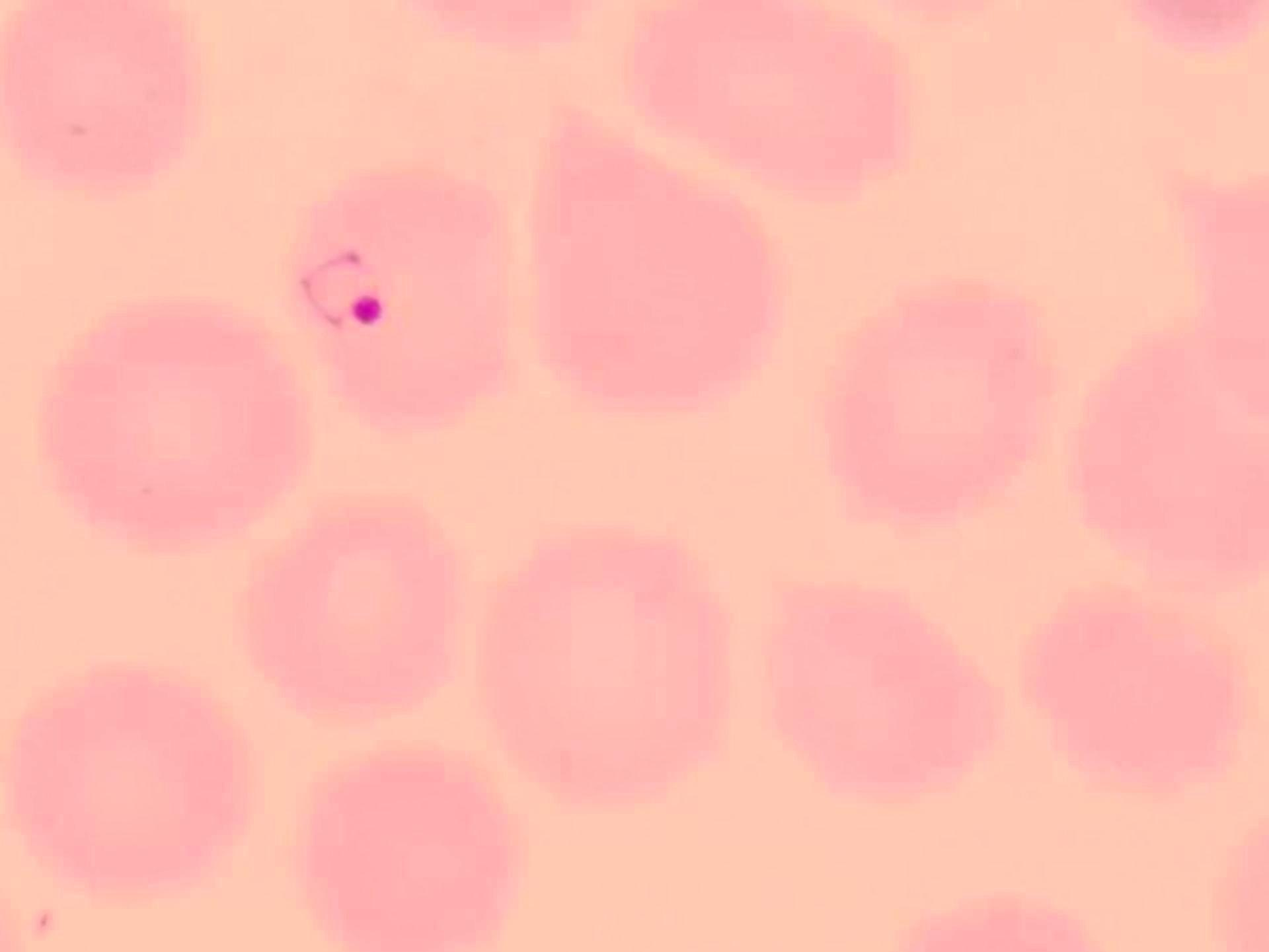Infected: (292, 169, 523, 425)
Uninfected: (529, 106, 787, 407), (471, 529, 733, 800), (48, 303, 313, 548), (2, 669, 254, 892), (826, 283, 1058, 516), (1076, 312, 1269, 582), (634, 0, 908, 186), (768, 580, 1000, 793), (240, 509, 459, 721), (302, 747, 521, 952), (1026, 597, 1242, 795), (0, 0, 195, 194)
